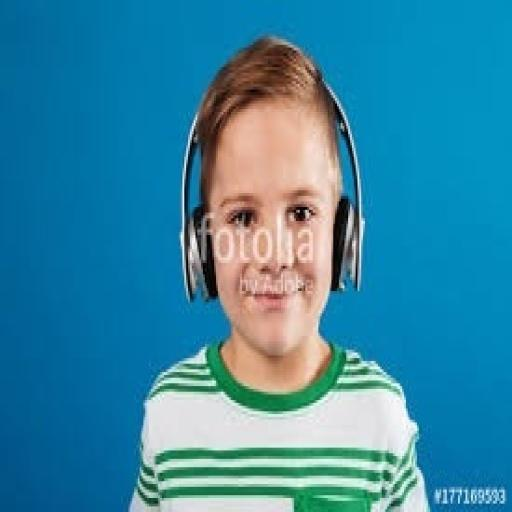listening_to_music: (123, 34, 436, 509)
